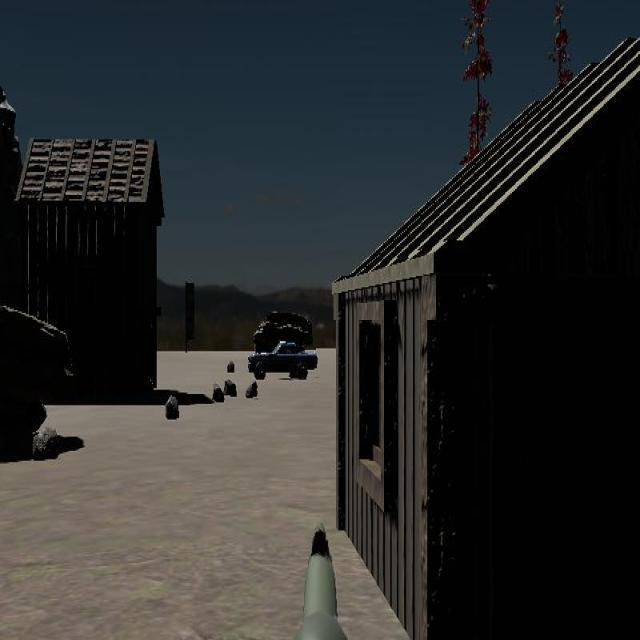car: (249, 342, 318, 380)
